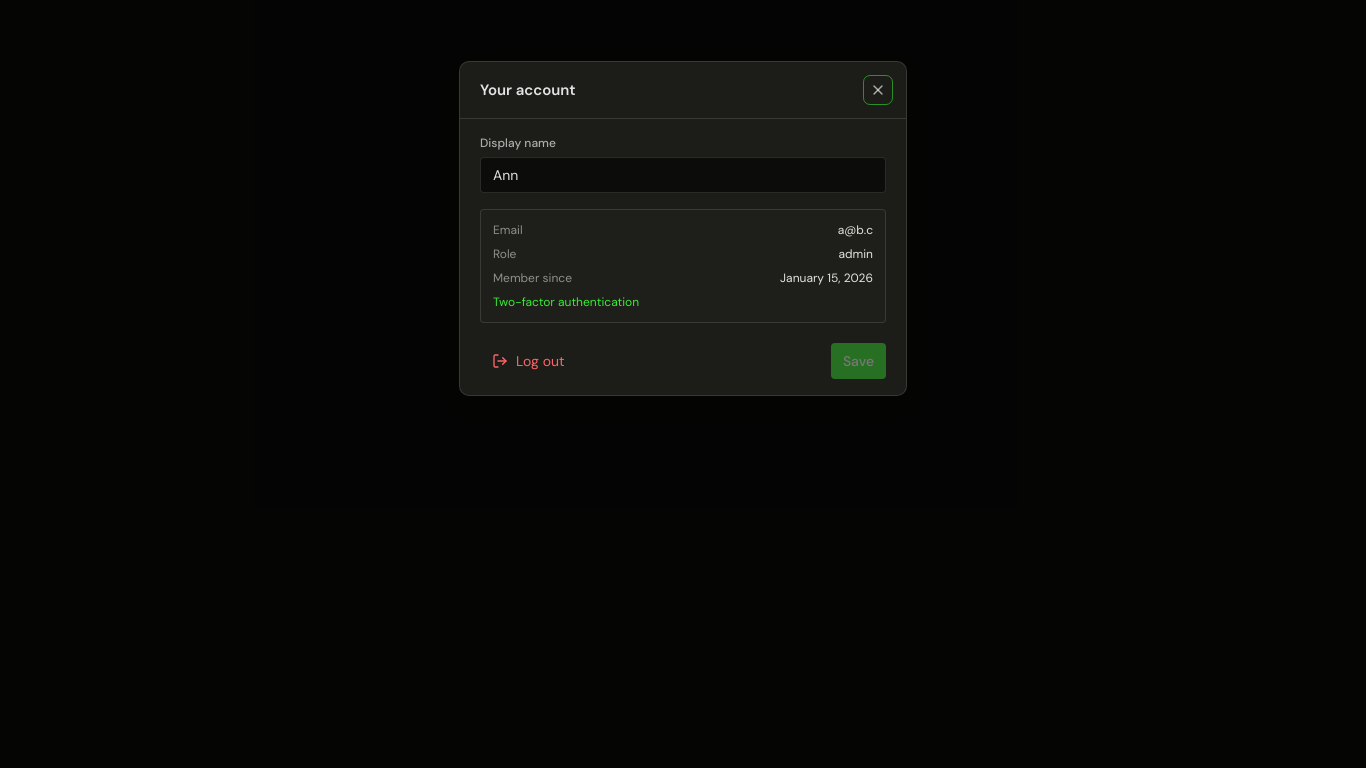
Test: ProfileDialog › saves the trimmed name on Enter and applies the answer
Replace the text in the field with placeholder "Your name" with " Anna " at (683, 175), box [480,157,886,193]
Then press Enter
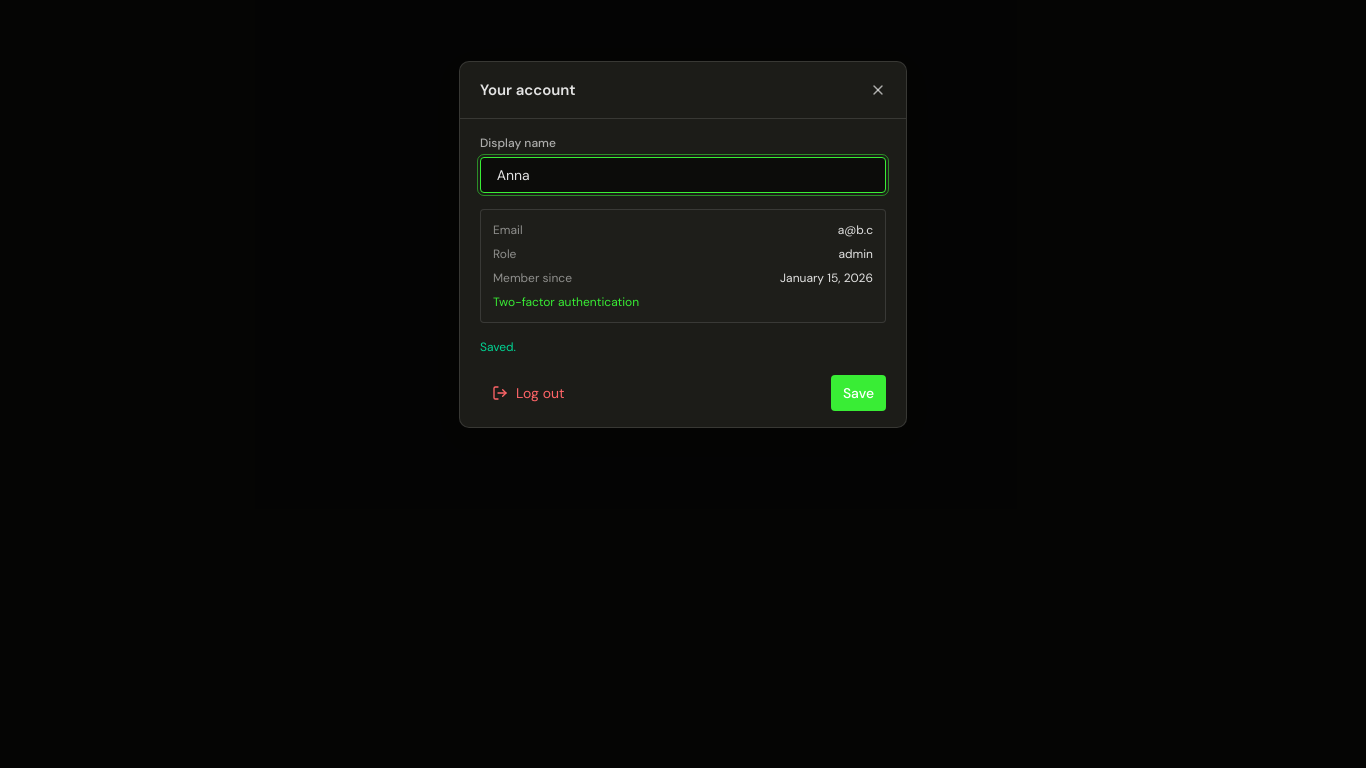
Result: the text "Saved." is shown at [480,339,516,355]
